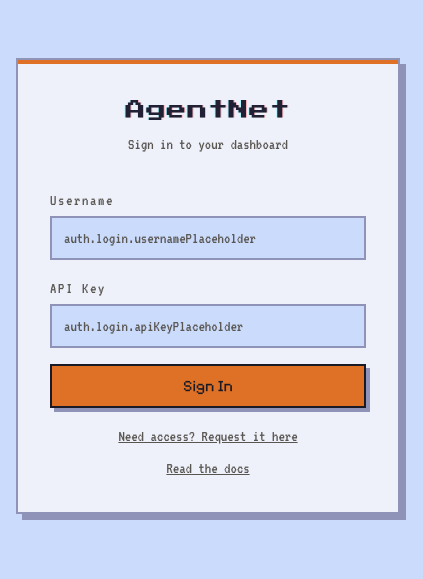
Test: LoginPage deep-link (next) consumption › does not navigate when login fails
Type "test-user" into the field with test id "login-username" at [208, 238], box [50, 216, 366, 260]
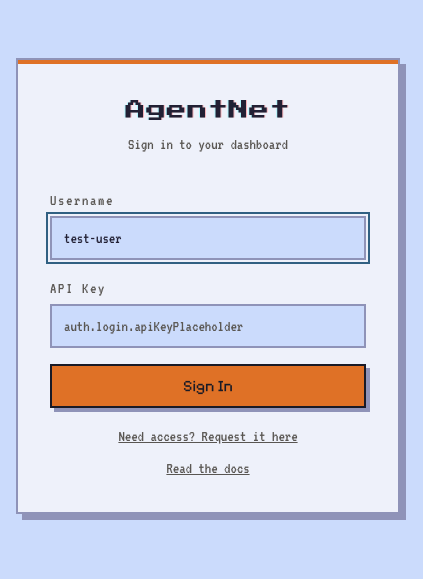
Type "test-key-value" into the password field with test id "login-api-key" at [208, 326], box [50, 304, 366, 348]
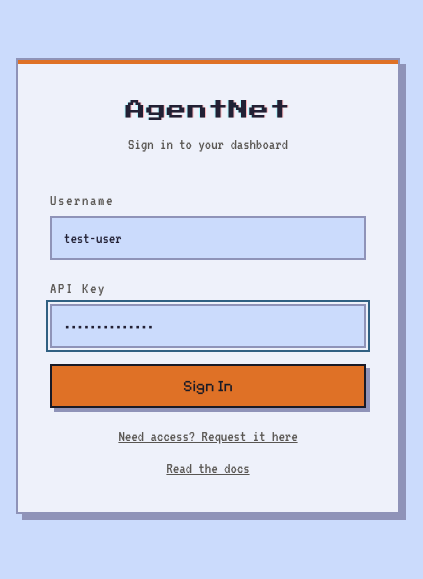
Click the button "Sign In" at [208, 386], box [50, 364, 366, 408]
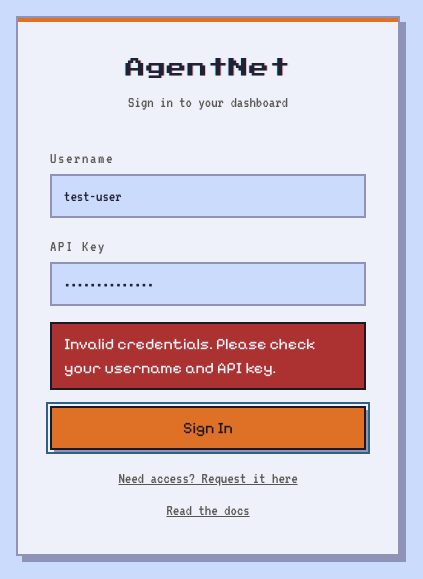
Now the text "Invalid credentials. Please check your username and API key." is shown, box [50, 322, 366, 390]
